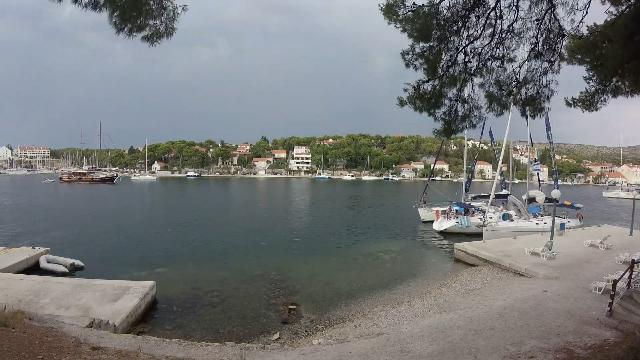Freighter: (57, 164, 125, 187)
Sailboat: (128, 170, 160, 184)
